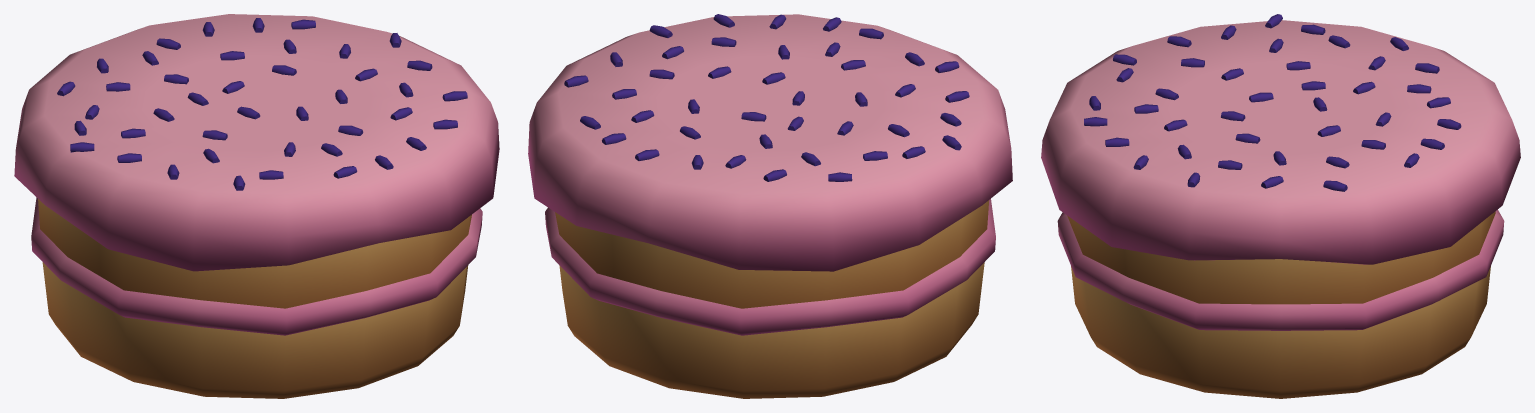
File: Cake_03.glb
3 renders of one model, left to right at view 1: azimuth 30°, elevation 25°; view 2: azimuth 150°, elevation 25°; view 3: azimuth 270°, elevation 25°, orthographic.
Parts seen in each view (by area): view 1: Cake_03; view 2: Cake_03; view 3: Cake_03.
Boxes of the visible parts, <box> form: Cake_03: <box>14,14,499,398</box>; Cake_03: <box>528,14,1012,398</box>; Cake_03: <box>1041,14,1520,398</box>.
Size of the model in its own units: 0.7497 by 0.3736 by 0.7497.
Materials: 1 (1 with a texture image).
